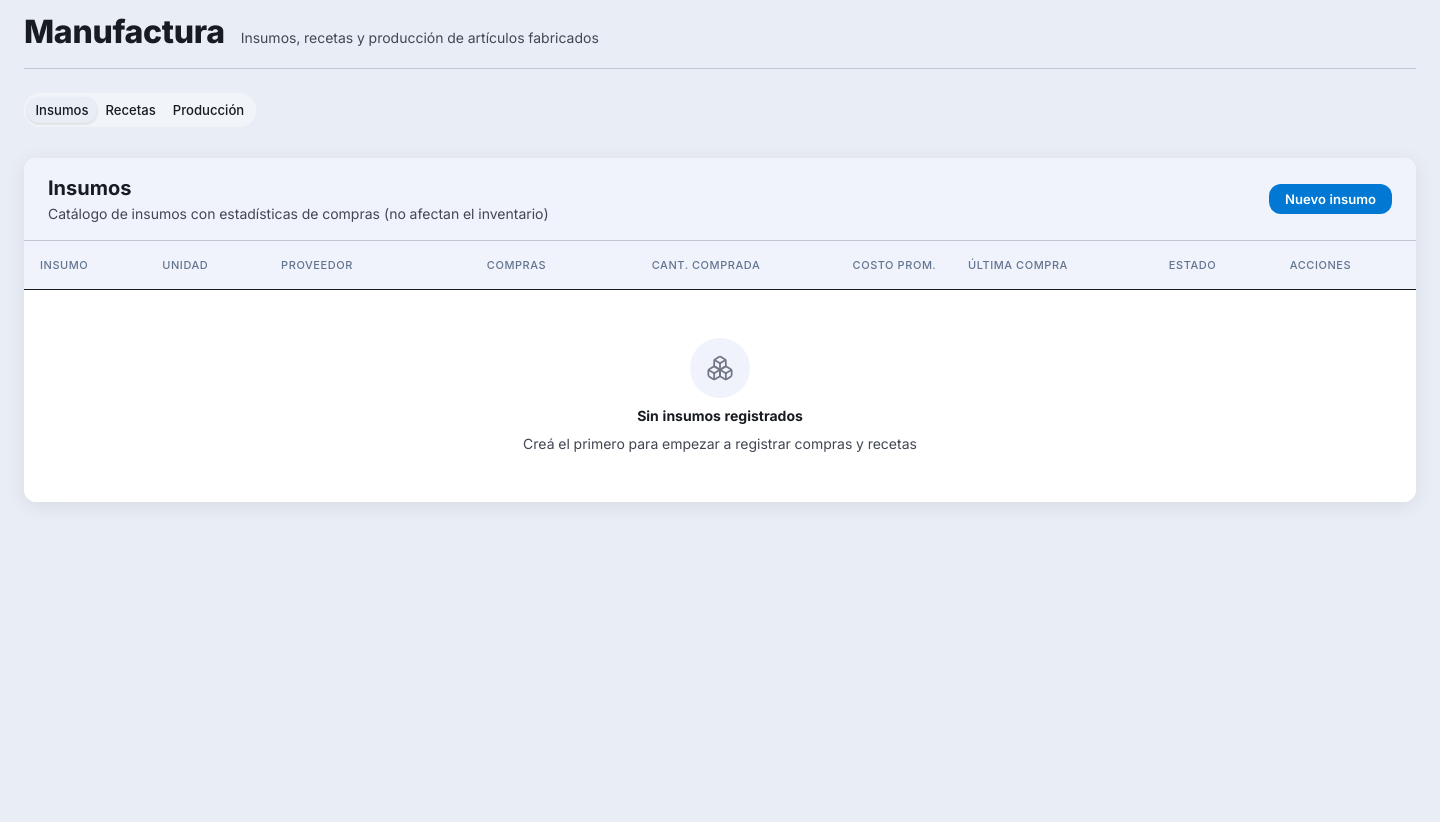
Scenario: ManufacturingPage — producción con unidades (F6.2) › un producto solo en rentabilidad (sin lotes ni stock) igual aparece en el resumen
The image size is (1440, 822).
Click the tab "Producción": (208, 110) [164,96,253,123]
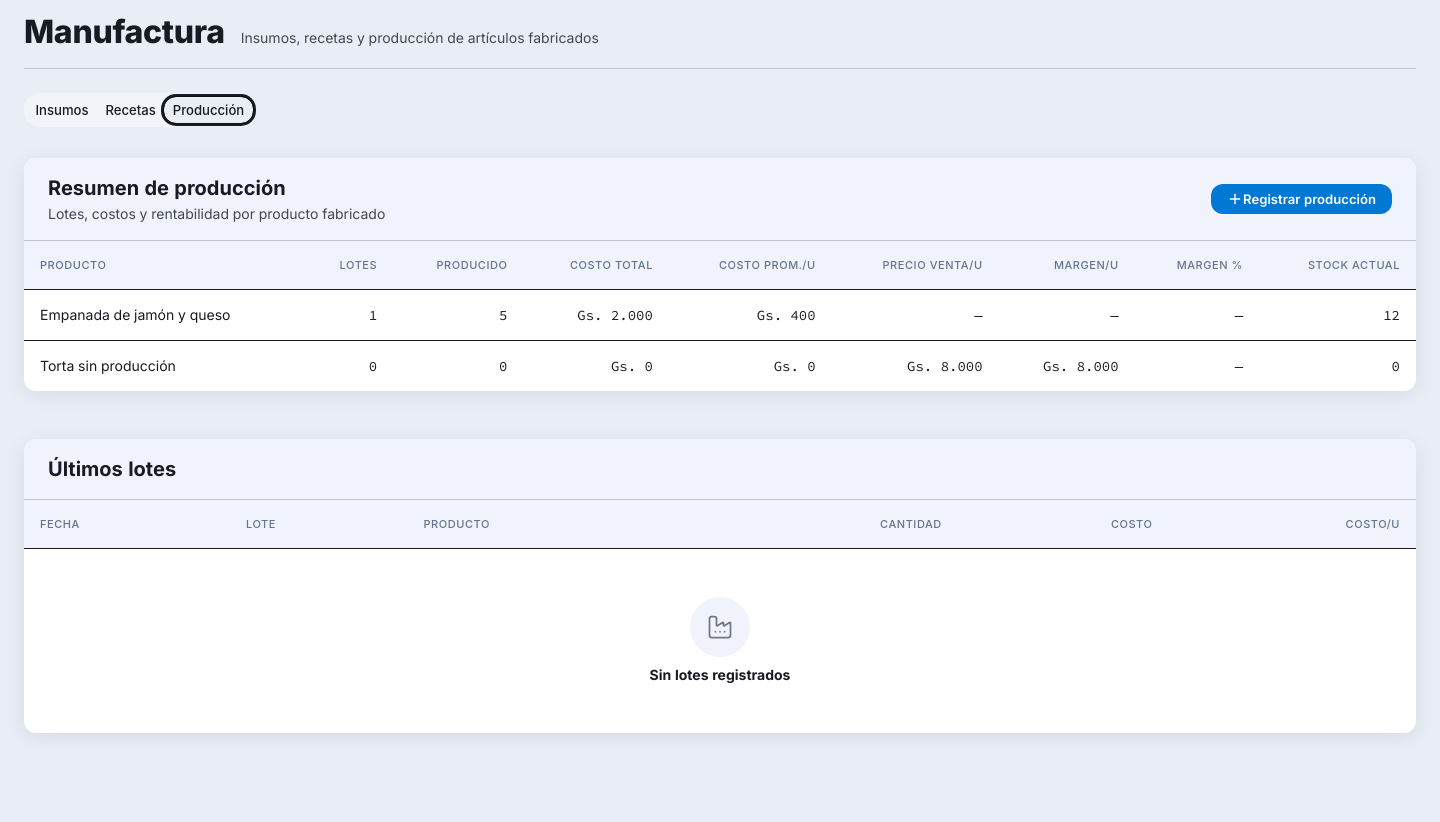
Check: the text "Torta sin producción" is shown, box [24,341,305,391]
